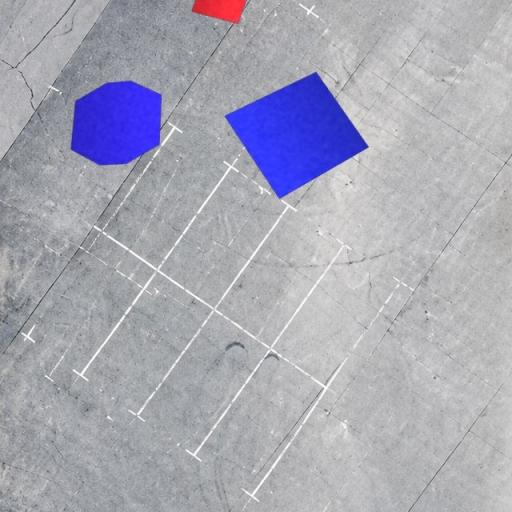BLUE_SQUARE: (224, 71, 370, 200)
RED_SQUARE: (190, 0, 256, 24)
